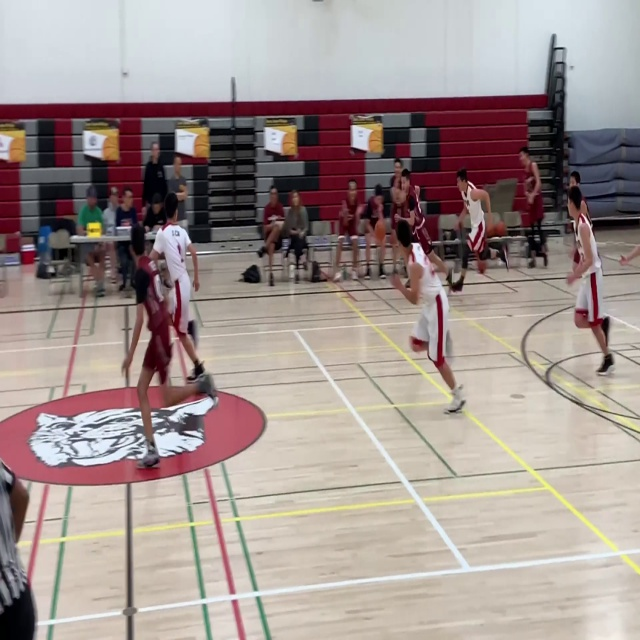Basketball: (494, 221, 507, 237)
